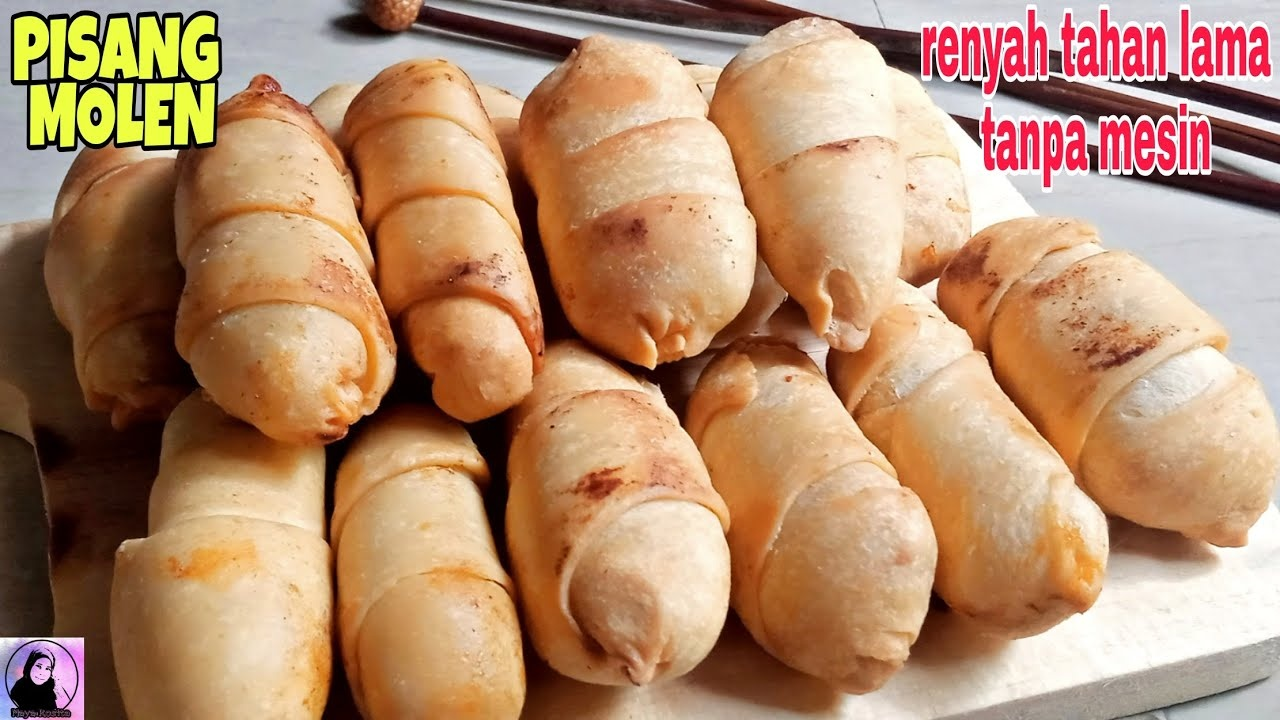pisang_molen: (935, 214, 1274, 554), (837, 277, 1110, 642), (169, 68, 394, 449), (689, 332, 912, 716), (517, 34, 763, 374), (343, 56, 539, 434), (506, 331, 710, 687), (704, 18, 904, 349)
